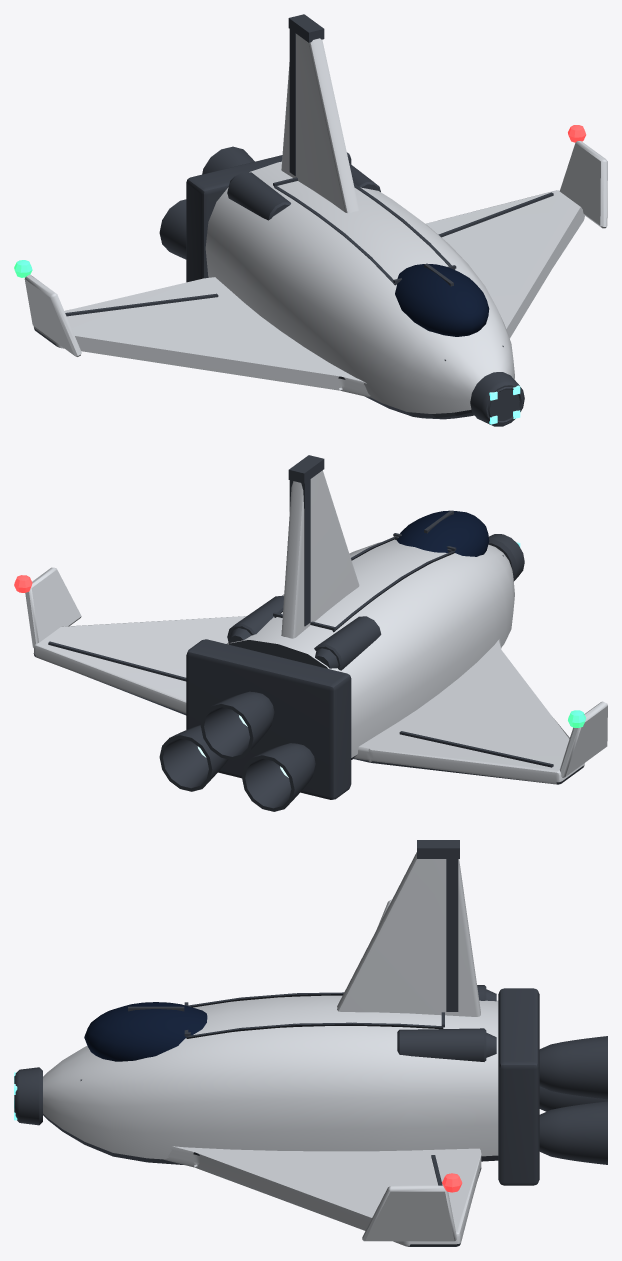
Rendered from shuttle.glb.
3 views of the same model, one above another, from view 1: azimuth 30°, elevation 25°; view 2: azimuth 150°, elevation 25°; view 3: azimuth 270°, elevation 25° (orthographic). The views are drawn at different scales.
Visible parts, largest first — view 1: Hull, Belly, Canopy; view 2: Hull, Belly, Canopy; view 3: Hull, Belly, Canopy.
Boxes of the visible parts, x1,y1,x2,y2 form: Hull: (24, 34, 607, 413); Belly: (34, 14, 553, 426); Canopy: (395, 264, 489, 336); Hull: (25, 470, 607, 784); Belly: (34, 455, 583, 811); Canopy: (396, 510, 489, 556); Hull: (43, 852, 498, 1246); Belly: (14, 840, 607, 1246); Canopy: (84, 1002, 207, 1061).
Bounding box in the file's own units: 0.2051 × 0.0982 × 0.1735.
